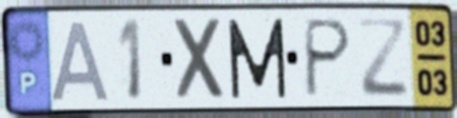1: (116, 15, 143, 105)
A: (49, 18, 114, 104)
M: (225, 16, 290, 103)
P: (302, 16, 355, 101)
X: (171, 15, 229, 105)
Z: (355, 15, 411, 100)
